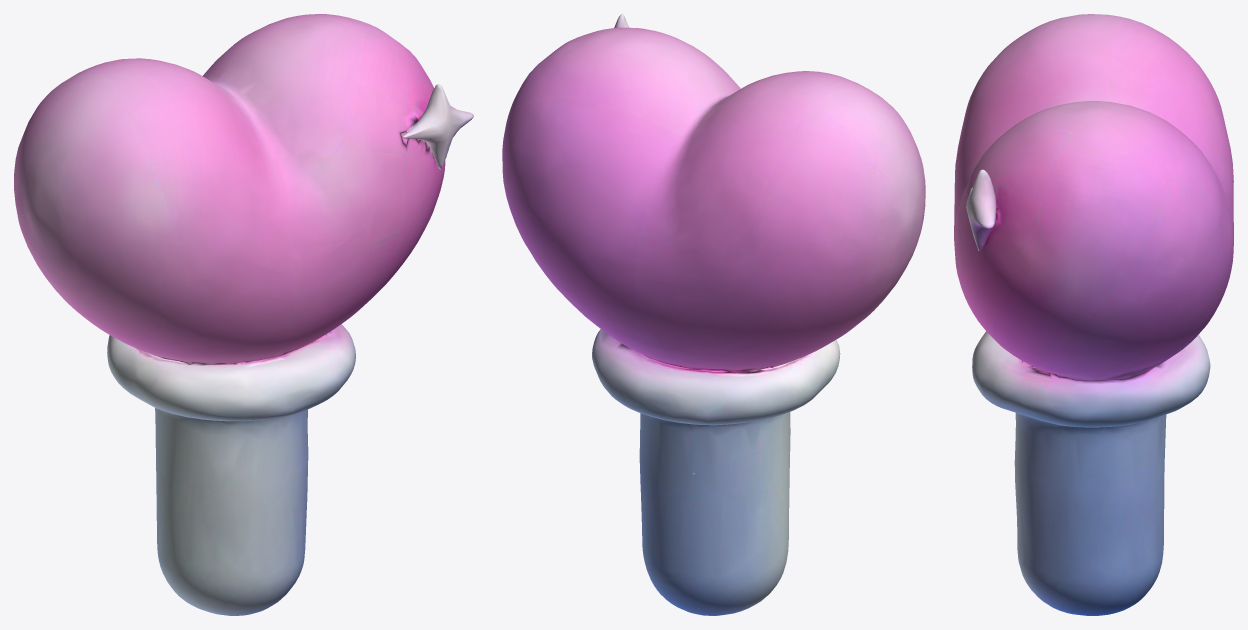
The model's file is home-goods.glb.
3 views of the same model, side by side, from view 1: azimuth 30°, elevation 25°; view 2: azimuth 150°, elevation 25°; view 3: azimuth 270°, elevation 25° (orthographic). The views are drawn at different scales.
Visible parts, largest first — view 1: tripo_node_8cd2a060-2580-429b-ad5d-ce01dbb8f33e; view 2: tripo_node_8cd2a060-2580-429b-ad5d-ce01dbb8f33e; view 3: tripo_node_8cd2a060-2580-429b-ad5d-ce01dbb8f33e.
Part boxes in pixels (x1,y1,x2,y2): tripo_node_8cd2a060-2580-429b-ad5d-ce01dbb8f33e: (14,14,473,615); tripo_node_8cd2a060-2580-429b-ad5d-ce01dbb8f33e: (502,14,925,615); tripo_node_8cd2a060-2580-429b-ad5d-ce01dbb8f33e: (954,14,1233,615).
Size of the model in its own units: 0.7294 by 0.9802 by 0.462.
Materials: 1 (1 with a texture image).
